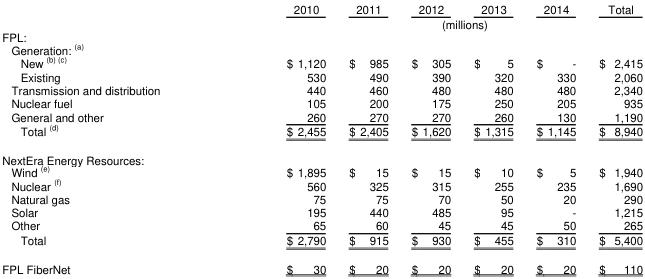table: (1, 0, 642, 276)
table column: (1, 0, 222, 276), (222, 0, 336, 276), (336, 0, 399, 276), (461, 0, 524, 276), (399, 0, 461, 276), (524, 0, 586, 276), (586, 0, 642, 276)
table column header: (1, 0, 642, 29)
table projected row header: (1, 144, 642, 164), (1, 29, 642, 42), (1, 42, 642, 55)
table row: (1, 253, 642, 276), (1, 122, 642, 144), (1, 232, 642, 253), (1, 144, 642, 164), (1, 0, 642, 15), (1, 15, 642, 29), (1, 55, 642, 69), (1, 82, 642, 96), (1, 177, 642, 191), (1, 191, 642, 205), (1, 218, 642, 232), (1, 29, 642, 42), (1, 42, 642, 55), (1, 69, 642, 82), (1, 96, 642, 109), (1, 109, 642, 122), (1, 164, 642, 177), (1, 205, 642, 218)
table spanning cell: (222, 15, 642, 29)
